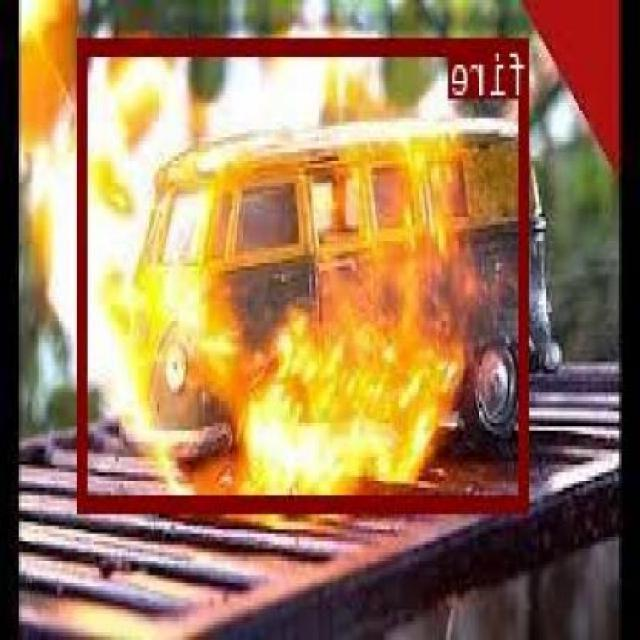Fire: (80, 35, 529, 508)
